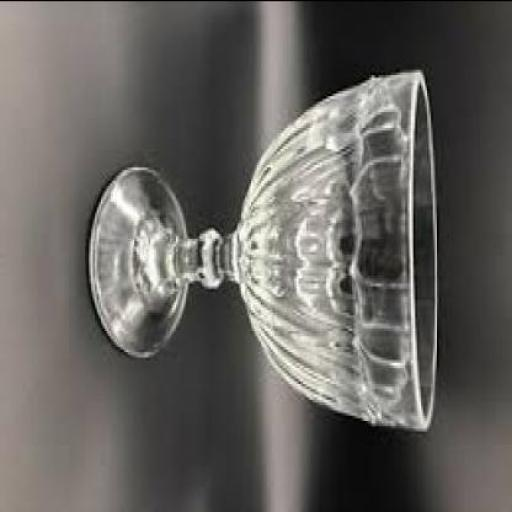glass: (91, 66, 441, 428)
